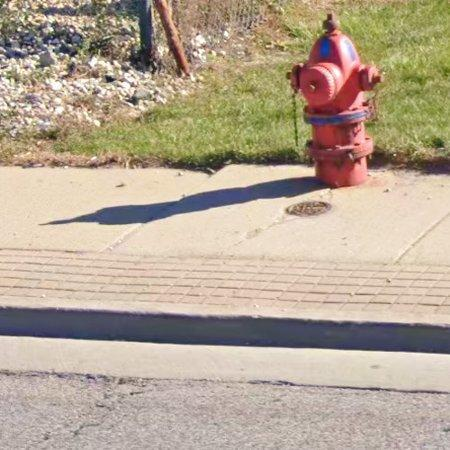a fire hydrant: (290, 14, 383, 188)
